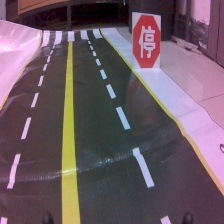stop: (131, 9, 161, 71)
